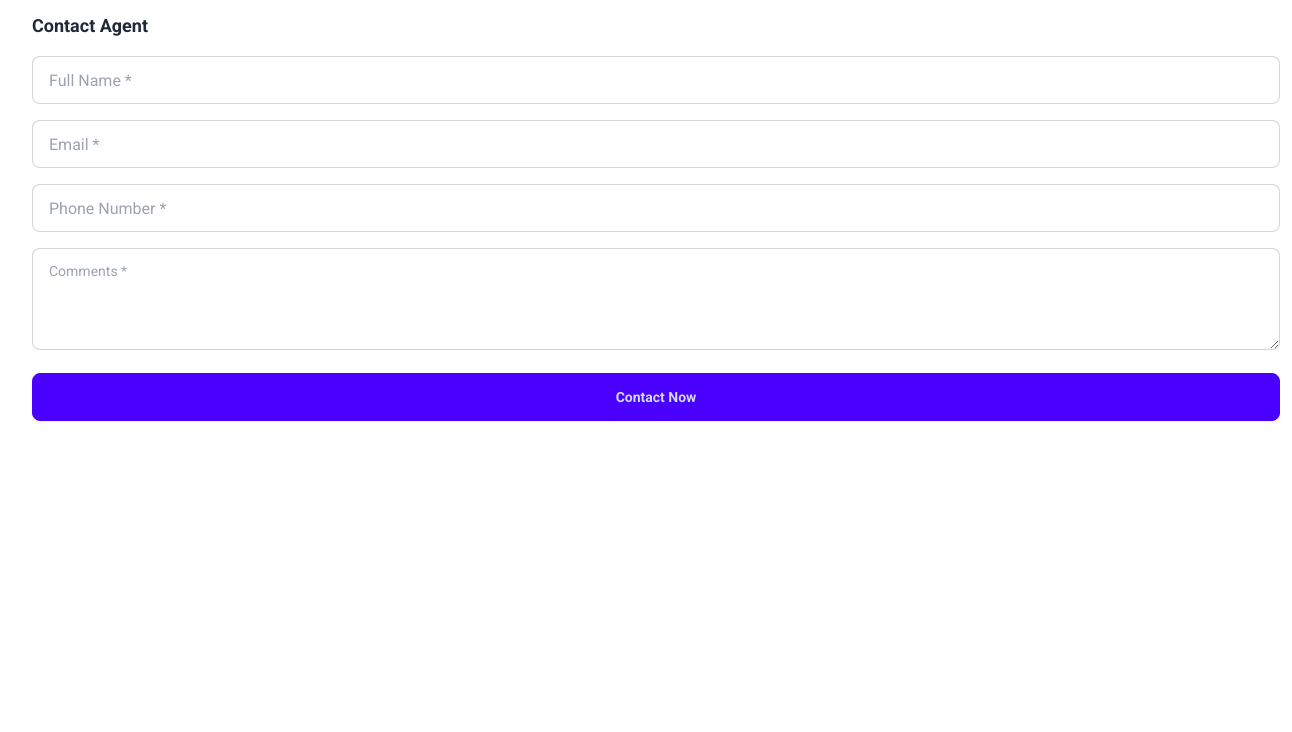
Test: ContactForm Component › shows validation errors for empty fields
Click the button "Contact Now".
click(656, 397)  # box [32,373,1280,421]
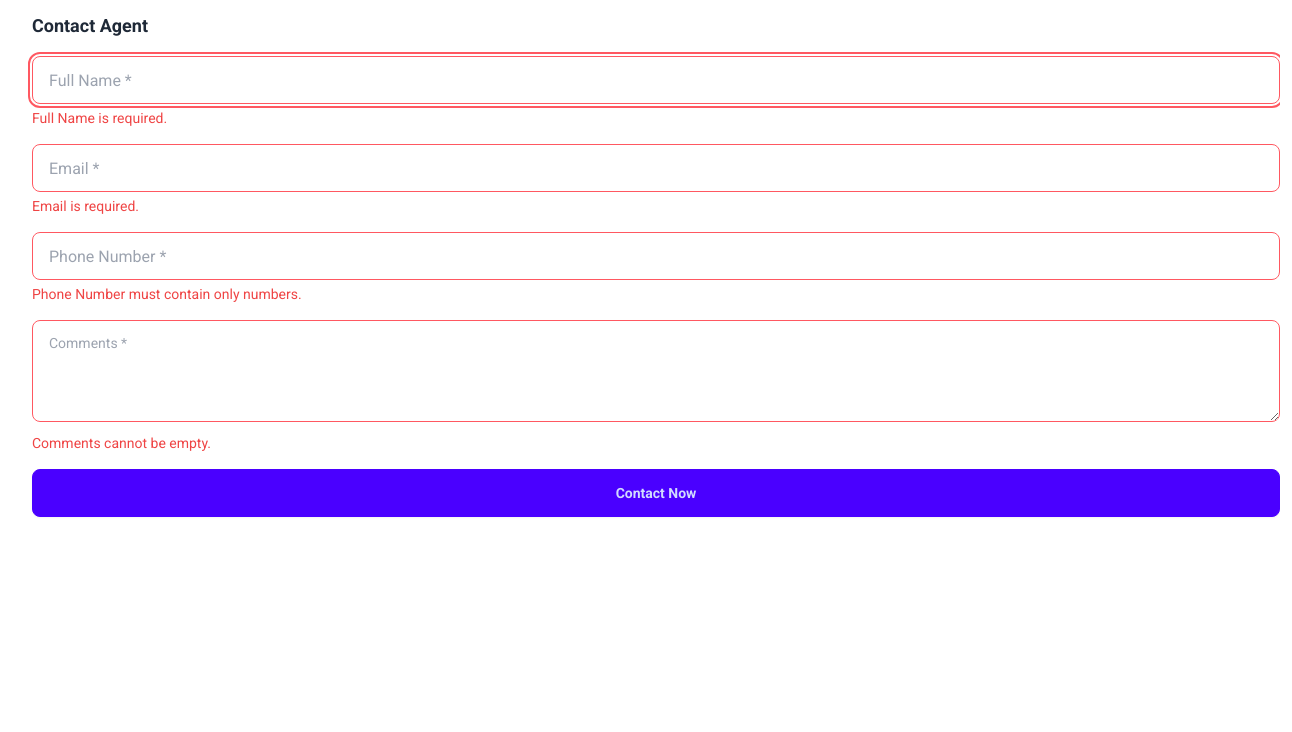
expect the text "Full Name is required." is shown: met, box [32,110,167,126]
expect the text "Email is required." is shown: met, box [32,198,139,214]
expect the text "Phone Number must contain only numbers." is shown: met, box [32,286,302,302]
